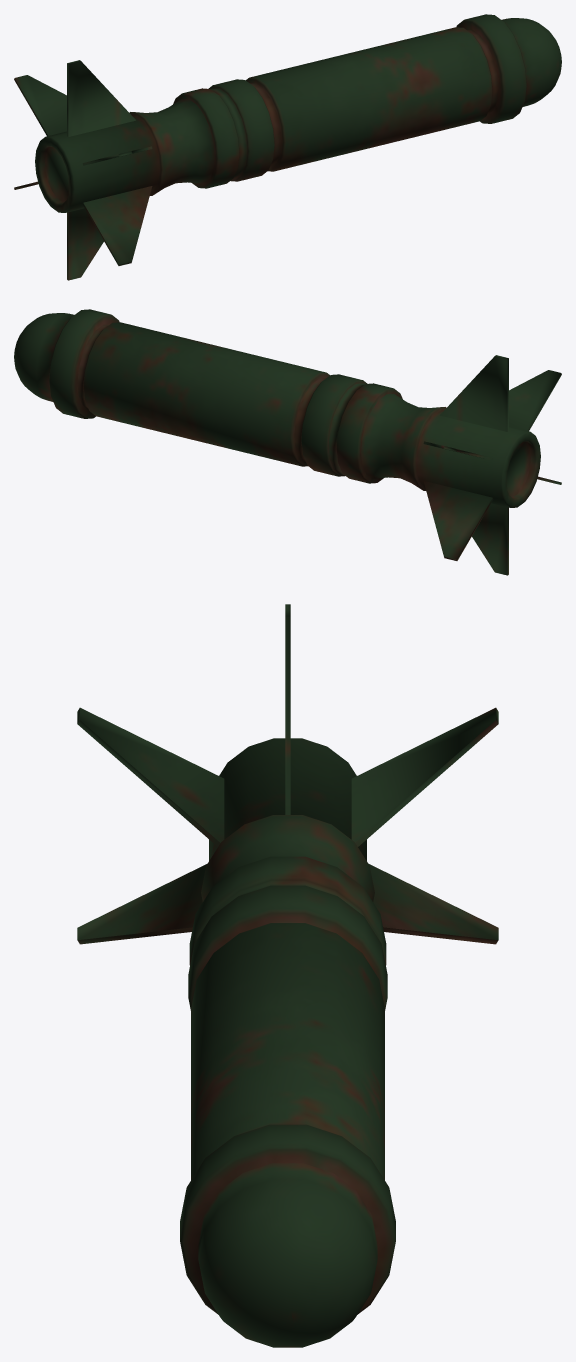
Rendered from missile-option.glb.
3 views of the same model, one above another, from view 1: azimuth 30°, elevation 25°; view 2: azimuth 150°, elevation 25°; view 3: azimuth 270°, elevation 25° (orthographic). The views are drawn at different scales.
Parts seen in each view (by area): view 1: Missile_Q.008, Missile_Q.001_Missile_Q.010; view 2: Missile_Q.008, Missile_Q.001_Missile_Q.010; view 3: Missile_Q.008, Missile_Q.001_Missile_Q.010.
Boxes of the visible parts, x1,y1,x2,y2 form: Missile_Q.008: (35, 14, 561, 212); Missile_Q.001_Missile_Q.010: (14, 60, 152, 280); Missile_Q.008: (14, 309, 540, 507); Missile_Q.001_Missile_Q.010: (423, 355, 561, 575); Missile_Q.008: (180, 738, 395, 1347); Missile_Q.001_Missile_Q.010: (77, 604, 498, 944).
Bounding box in the file's own units: 4 × 1.65 × 1.45.
Materials: 1 (1 with a texture image).
